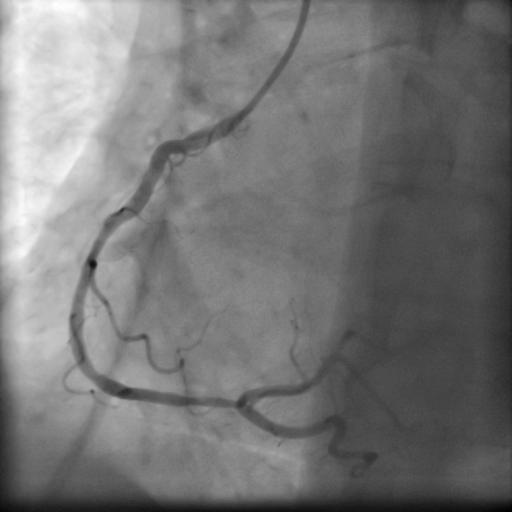Stenosis: (190, 390, 237, 416)
